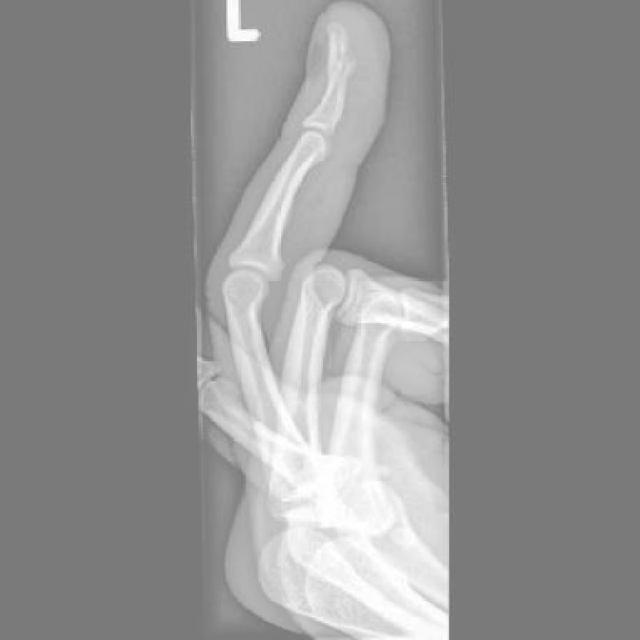Fracture: (317, 49, 360, 85)
